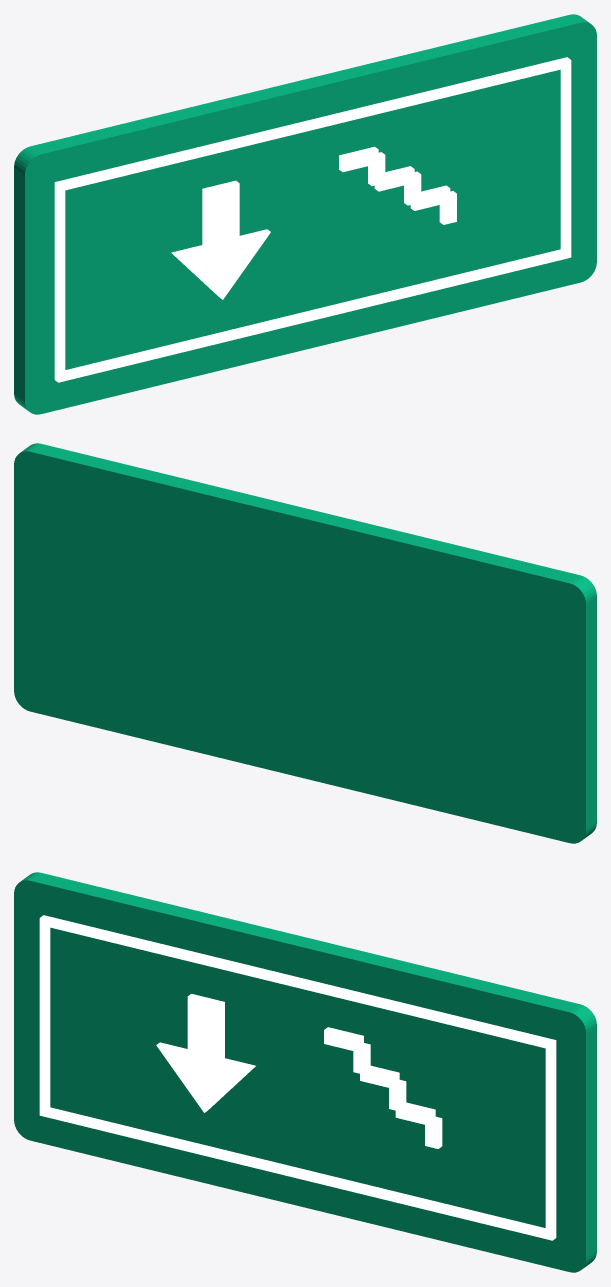
3 renders of one model, top to bottom at view 1: azimuth 30°, elevation 25°; view 2: azimuth 150°, elevation 25°; view 3: azimuth 330°, elevation 25°, orthographic.
Parts seen in each view (by area): view 1: plate, bd0, bd1, g0, bd2, bd3, g1, g3, g5; view 2: plate; view 3: plate, bd0, bd1, g0, bd3, bd2, g1, g3, g5, g6.
Boxes of the visible parts, <box> form: plate: <box>14,14,596,414</box>; bd0: <box>54,57,571,191</box>; bd1: <box>54,249,571,382</box>; g0: <box>171,180,270,299</box>; bd2: <box>54,183,65,378</box>; bd3: <box>560,67,571,251</box>; g1: <box>339,146,378,171</box>; g3: <box>374,166,414,191</box>; g5: <box>410,185,450,210</box>; plate: <box>14,443,596,843</box>; plate: <box>14,872,596,1272</box>; bd0: <box>39,915,556,1049</box>; bd1: <box>39,1107,556,1240</box>; g0: <box>156,994,255,1112</box>; bd3: <box>545,1047,556,1233</box>; bd2: <box>39,925,50,1109</box>; g1: <box>324,1027,363,1052</box>; g3: <box>360,1065,399,1089</box>; g5: <box>395,1102,435,1125</box>; g6: <box>425,1116,442,1148</box>.
Bounding box in the file's own units: 0.424 × 0.184 × 0.019.
